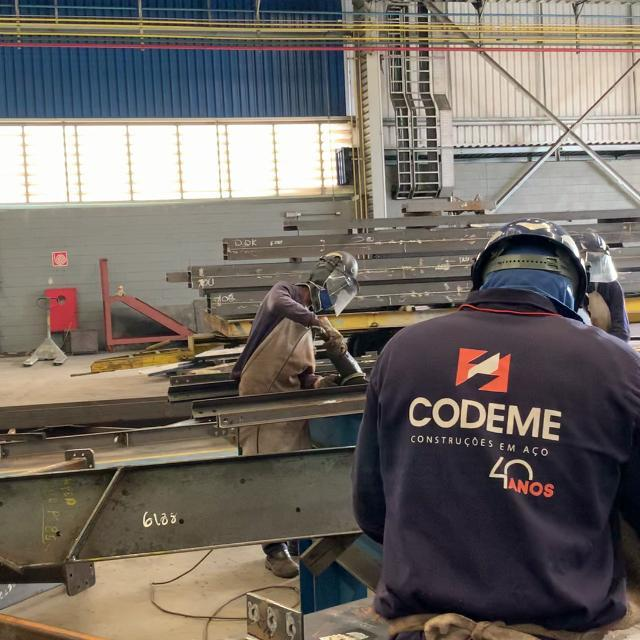eye-glass: (324, 264, 359, 316)
face-shield: (313, 318, 346, 356)
glove: (473, 221, 589, 310), (322, 250, 362, 287)
mask: (353, 218, 640, 628), (229, 249, 360, 384)
safety-shoe: (263, 554, 300, 581)
